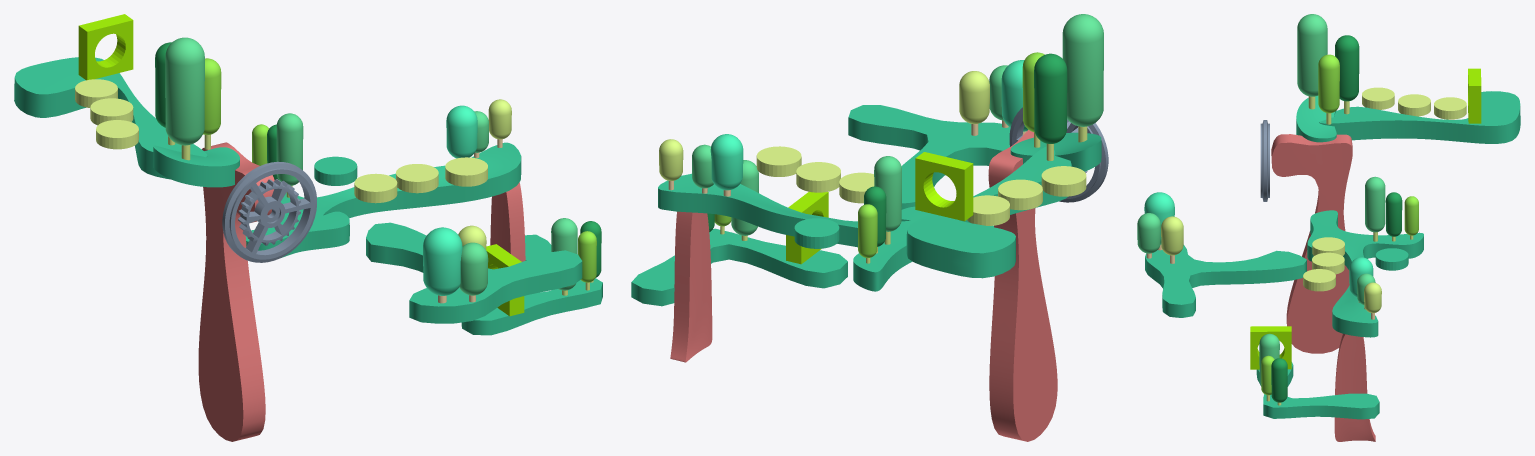
The picture shows the model from 3 angles, left to right: view 1: azimuth 30°, elevation 25°; view 2: azimuth 150°, elevation 25°; view 3: azimuth 270°, elevation 25°; orthographic projection. The views are drawn at different scales.
Parts seen in each view (by area): view 1: 物件_249.001, 物件_1.001, 物件_6.002, gear38_gears_0, 物件_156.001, 球体.103, 物件_3.001, 物件_312.001, 物件_5.001, 球体.104, 物件_4.002, 柱体.062 (+16 smaller); view 2: 物件_249.001, 物件_6.002, 物件_156.001, 物件_1.001, 物件_3.001, 物件_4.002, 球体.103, 物件_312.001, 球体.105, 物件_5.001, 球体.112, 柱体.062 (+18 smaller); view 3: 物件_249.001, 物件_156.001, 物件_1.001, 物件_6.002, 物件_3.001, 物件_4.002, 球体.103, 球体.105, 物件_5.001, 球体.102, 柱体.062, 物件_312.003 (+19 smaller).
Part boxes in pixels (bbox=[...]): 物件_249.001: bbox=[198, 142, 274, 441]; 物件_1.001: bbox=[366, 222, 582, 323]; 物件_6.002: bbox=[245, 142, 521, 257]; gear38_gears_0: bbox=[222, 161, 316, 262]; 物件_156.001: bbox=[14, 57, 207, 179]; 球体.103: bbox=[165, 37, 204, 145]; 物件_3.001: bbox=[461, 234, 602, 335]; 物件_312.001: bbox=[78, 14, 133, 80]; 物件_5.001: bbox=[153, 145, 239, 187]; 球体.104: bbox=[423, 227, 462, 303]; 物件_4.002: bbox=[490, 182, 525, 261]; 柱体.062: bbox=[276, 113, 303, 197]; 物件_249.001: bbox=[988, 130, 1057, 441]; 物件_6.002: bbox=[658, 173, 993, 291]; 物件_156.001: bbox=[906, 146, 1071, 278]; 物件_1.001: bbox=[848, 105, 1010, 209]; 物件_3.001: bbox=[631, 228, 847, 306]; 物件_4.002: bbox=[670, 211, 712, 362]; 球体.103: bbox=[1062, 14, 1103, 126]; 物件_312.001: bbox=[915, 152, 973, 221]; 球体.105: bbox=[1034, 53, 1067, 143]; 物件_5.001: bbox=[1010, 132, 1101, 171]; 球体.112: bbox=[710, 134, 743, 196]; 柱体.062: bbox=[874, 156, 901, 244]; 物件_249.001: bbox=[1271, 134, 1352, 353]; 物件_156.001: bbox=[1319, 91, 1520, 143]; 物件_1.001: bbox=[1145, 245, 1306, 317]; 物件_6.002: bbox=[1307, 210, 1423, 337]; 物件_3.001: bbox=[1256, 362, 1379, 419]; 物件_4.002: bbox=[1334, 333, 1375, 441]; 球体.103: bbox=[1297, 14, 1327, 96]; 球体.105: bbox=[1335, 35, 1359, 101]; 物件_5.001: bbox=[1296, 96, 1336, 142]; 球体.102: bbox=[1318, 54, 1339, 113]; 柱体.062: bbox=[1365, 176, 1385, 241]; 物件_312.003: bbox=[1250, 326, 1291, 369].
Bounding box in the file's own units: 3731 × 3320 × 3665.
